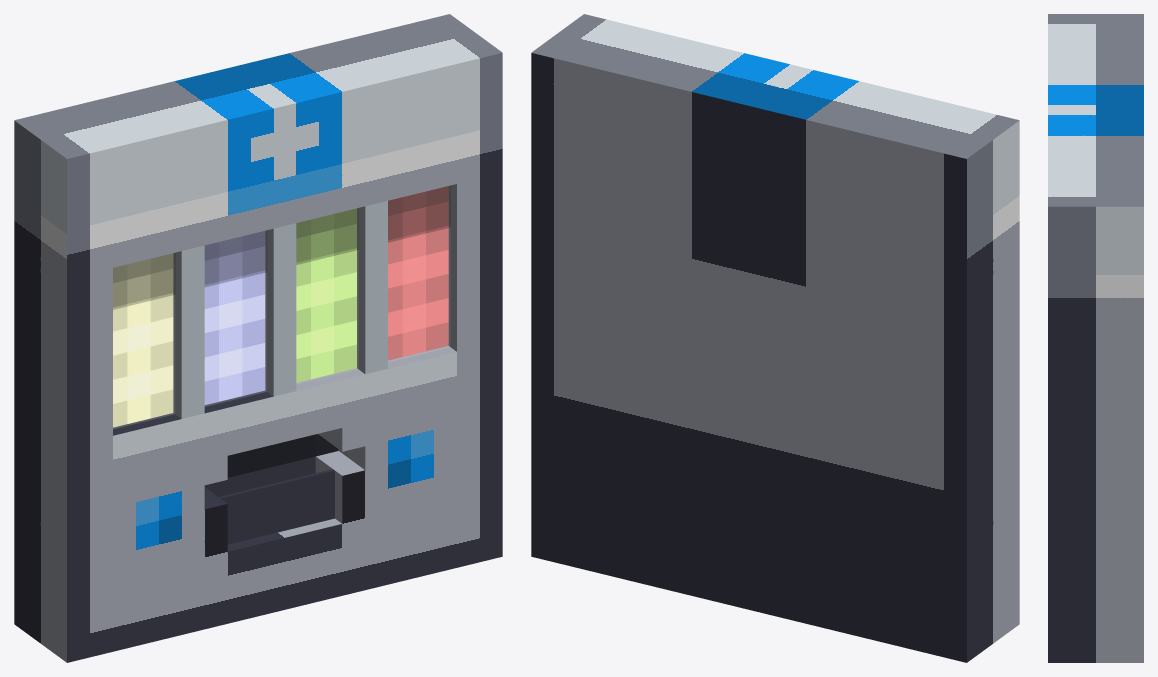
Rendered from wall_healer_level_2.glb.
3 renders of one model, left to right at view 1: azimuth 30°, elevation 25°; view 2: azimuth 150°, elevation 25°; view 3: azimuth 270°, elevation 25°, orthographic. The views are drawn at different scales.
Parts seen in each view (by area): view 1: Continuous_Medical_Housing, Bar_Shadow_Overlay, Syriniver_Glass, Aiuri_Reservoir, Libital_Glass, Blood_Glass, Aiuri_Glass, Syriniver_Reservoir, Blood_Reservoir, Libital_Reservoir, Service_Cover; view 2: Continuous_Medical_Housing; view 3: Continuous_Medical_Housing.
Part boxes in pixels (left/top/right/bottom): Continuous_Medical_Housing: left=14, top=14, right=502, bottom=662; Bar_Shadow_Overlay: left=113, top=186, right=450, bottom=309; Syriniver_Glass: left=296, top=208, right=358, bottom=383; Aiuri_Reservoir: left=204, top=231, right=265, bottom=404; Libital_Glass: left=113, top=253, right=174, bottom=428; Blood_Glass: left=388, top=186, right=449, bottom=361; Aiuri_Glass: left=205, top=231, right=266, bottom=406; Syriniver_Reservoir: left=296, top=208, right=356, bottom=382; Blood_Reservoir: left=388, top=186, right=448, bottom=360; Libital_Reservoir: left=113, top=253, right=173, bottom=427; Service_Cover: left=219, top=469, right=334, bottom=544; Continuous_Medical_Housing: left=531, top=14, right=1019, bottom=662; Continuous_Medical_Housing: left=1048, top=14, right=1143, bottom=662.
Size of the model in its own units: 0.5344 by 0.5906 by 0.1125.
Materials: 7 (7 with a texture image).
